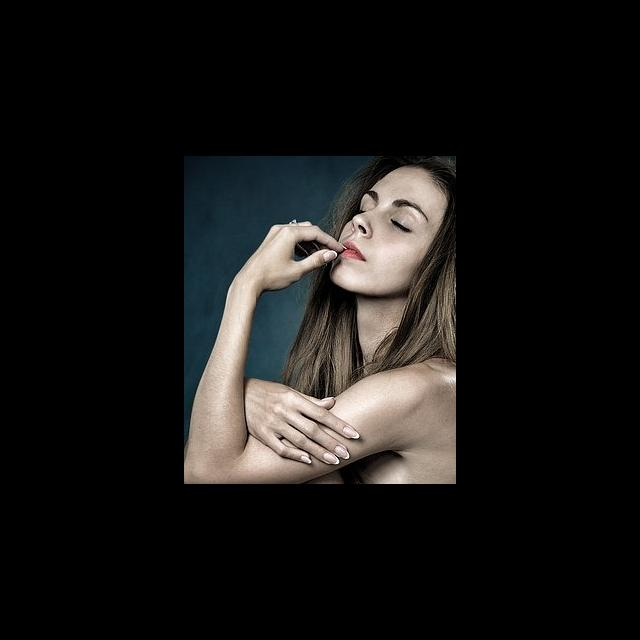female: (307, 156, 456, 311)
